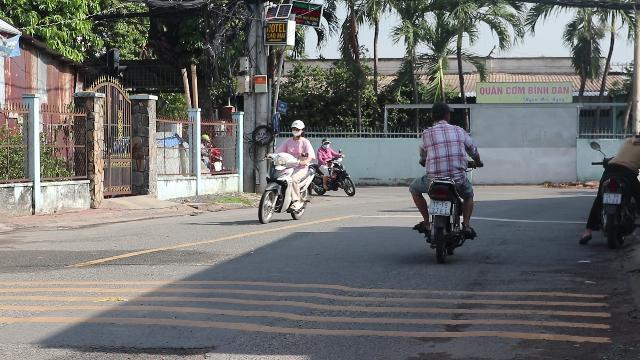helmet: (289, 119, 305, 137)
licenseplate: (430, 201, 450, 215), (603, 193, 621, 204)
motorcyclist: (406, 100, 479, 260), (582, 127, 640, 245), (256, 119, 318, 225)
nohelmet: (428, 100, 452, 124)
